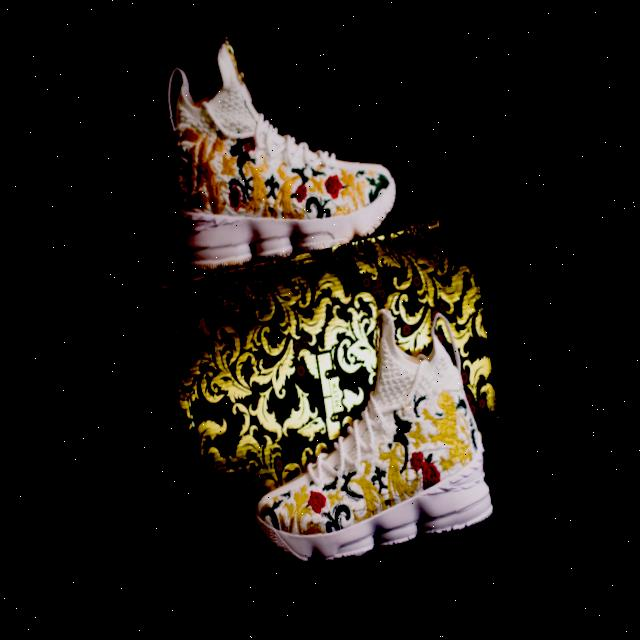shoe: (225, 288, 509, 591), (147, 6, 408, 287)
